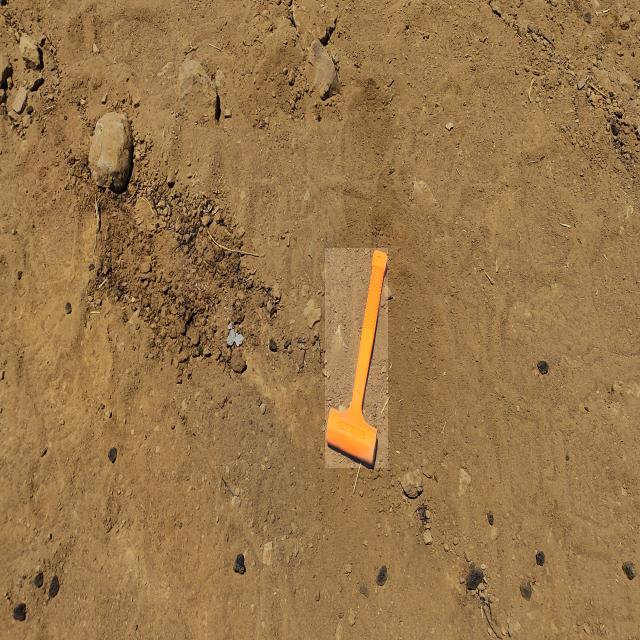Orange_hammer: (325, 248, 388, 468)
